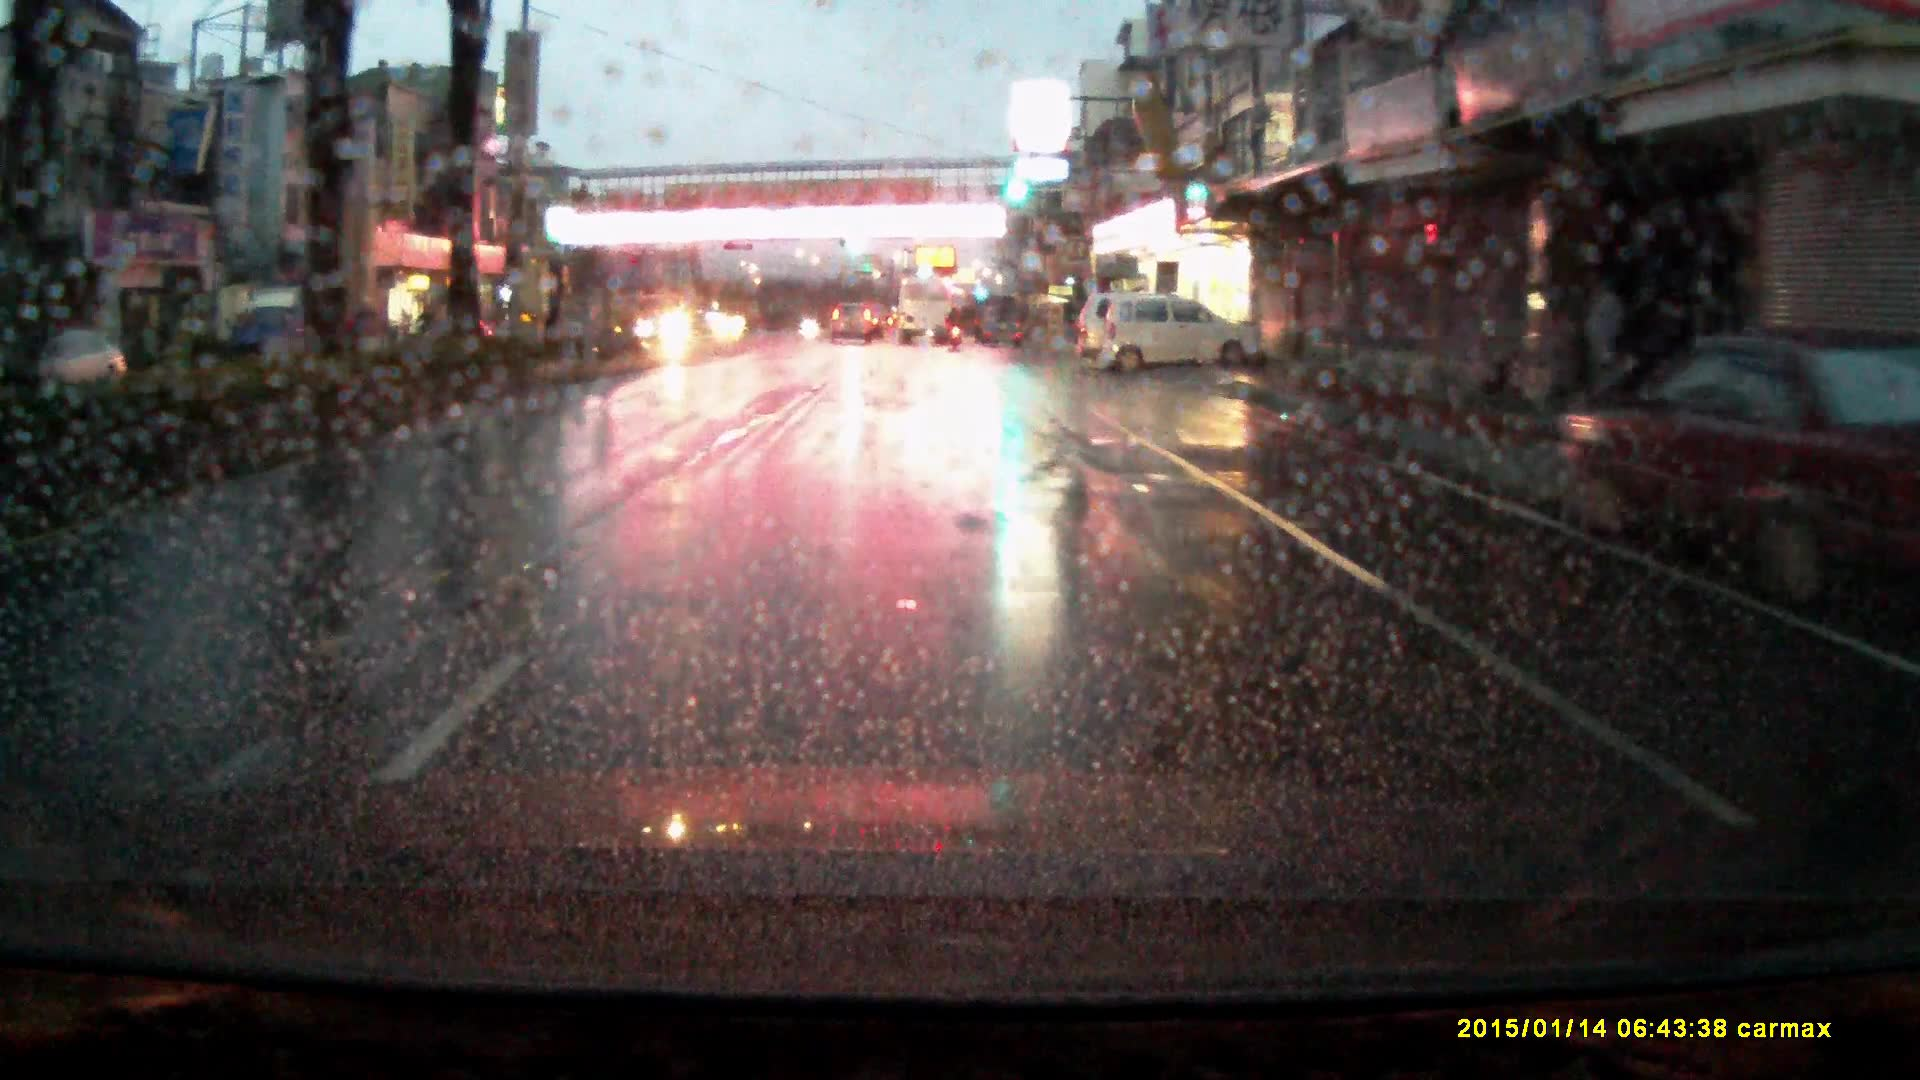rider: (945, 306, 965, 350)
vehicle: (1559, 330, 1920, 579), (1098, 291, 1265, 375), (228, 286, 329, 359), (1075, 290, 1162, 361), (898, 275, 951, 344), (635, 291, 704, 343), (830, 299, 876, 343)
